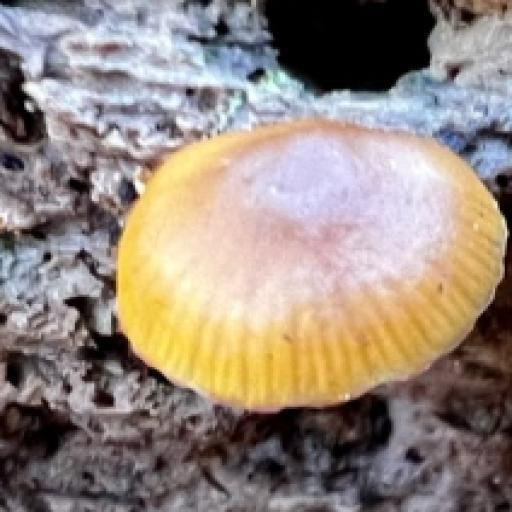mushroom: (103, 91, 509, 427)
